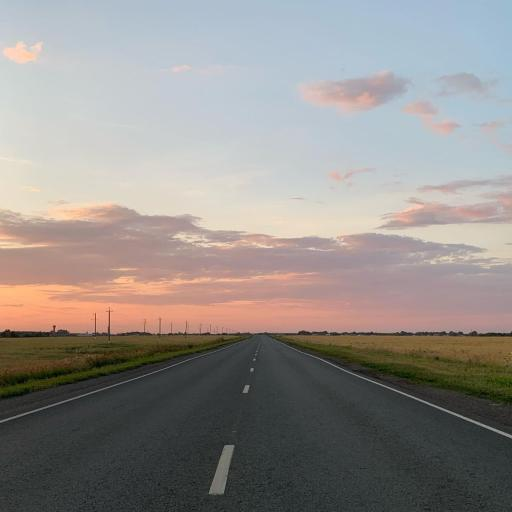glass_wall: (0, 335, 512, 512)
